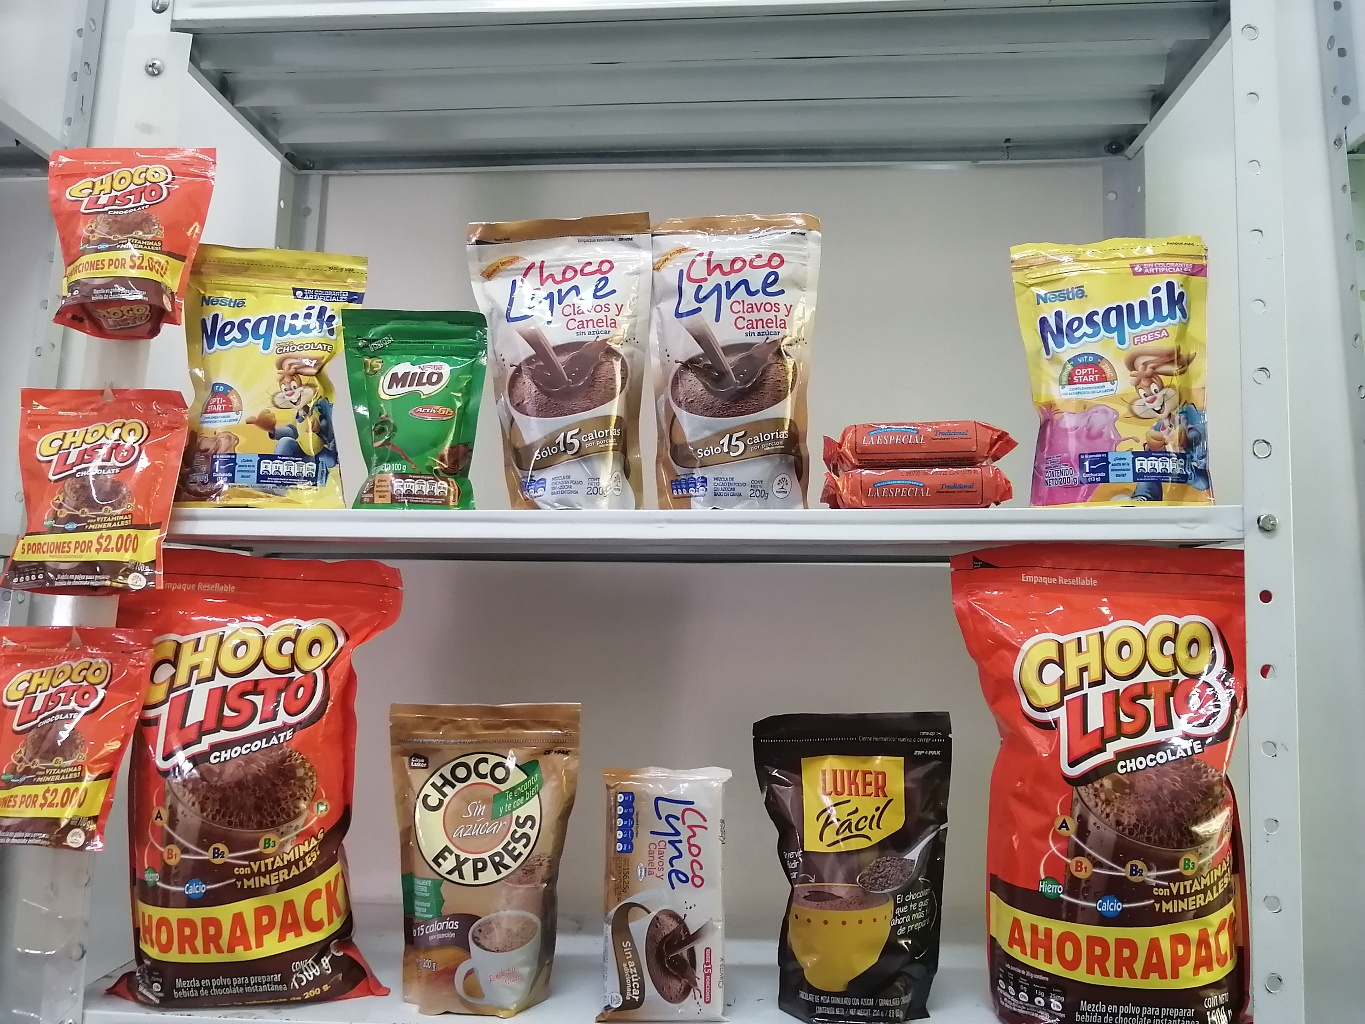COL0170103DYP1,500: (929, 547, 1299, 1024)
COL0170203DYP10000: (335, 291, 497, 511)
COL0170303DYP20000: (161, 223, 369, 507)
COL0170305DYP20000: (997, 229, 1239, 511)
